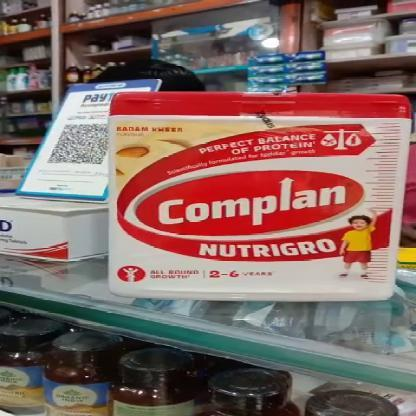Complan Nutrigro Badam Kheer: (108, 92, 412, 298)
